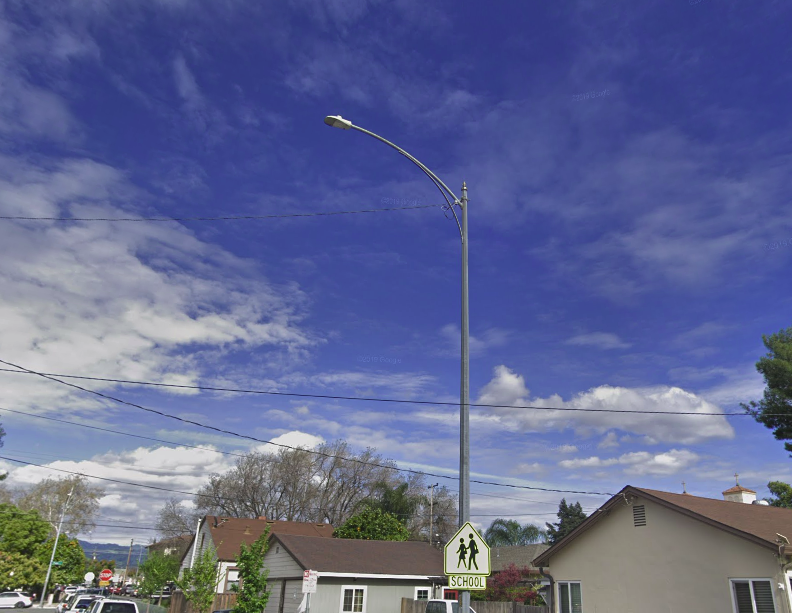pole: (319, 109, 477, 392)
